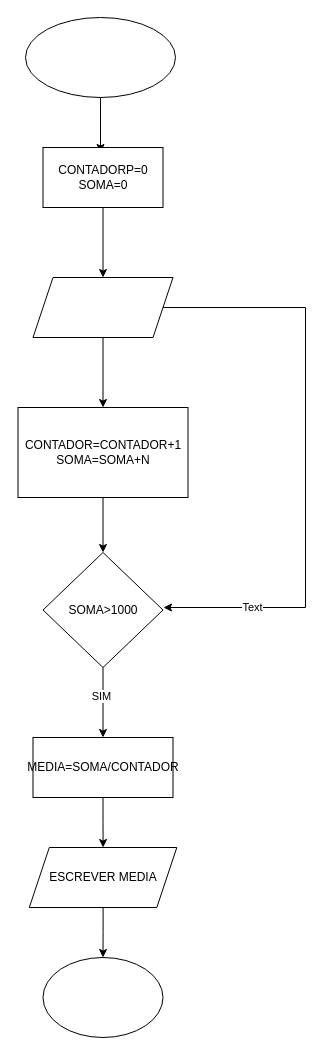
Some shapes in this 331 by 1055 pixel diagram are drawn without their labels. The centre of each missing label's shape, as x and y in pixels:
FIN: (102,997)
inicio: (100,57)
LER n: (102,307)
